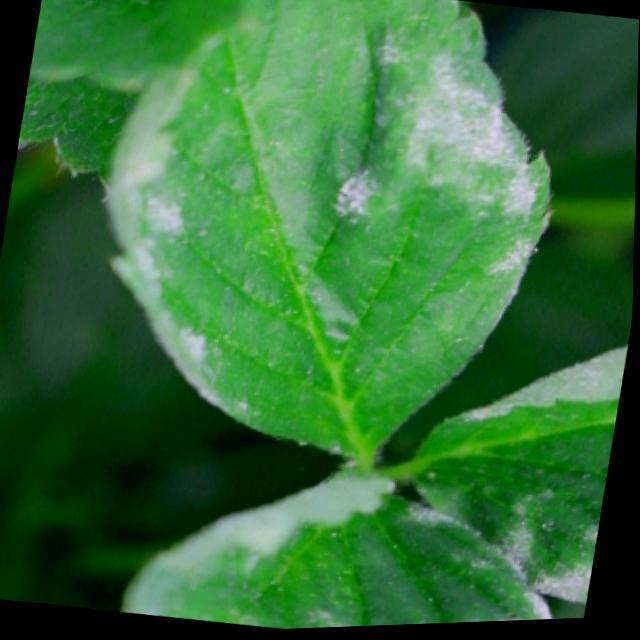Powdery Mildew Leaf: (104, 0, 557, 470), (123, 468, 559, 631), (408, 345, 631, 614)
